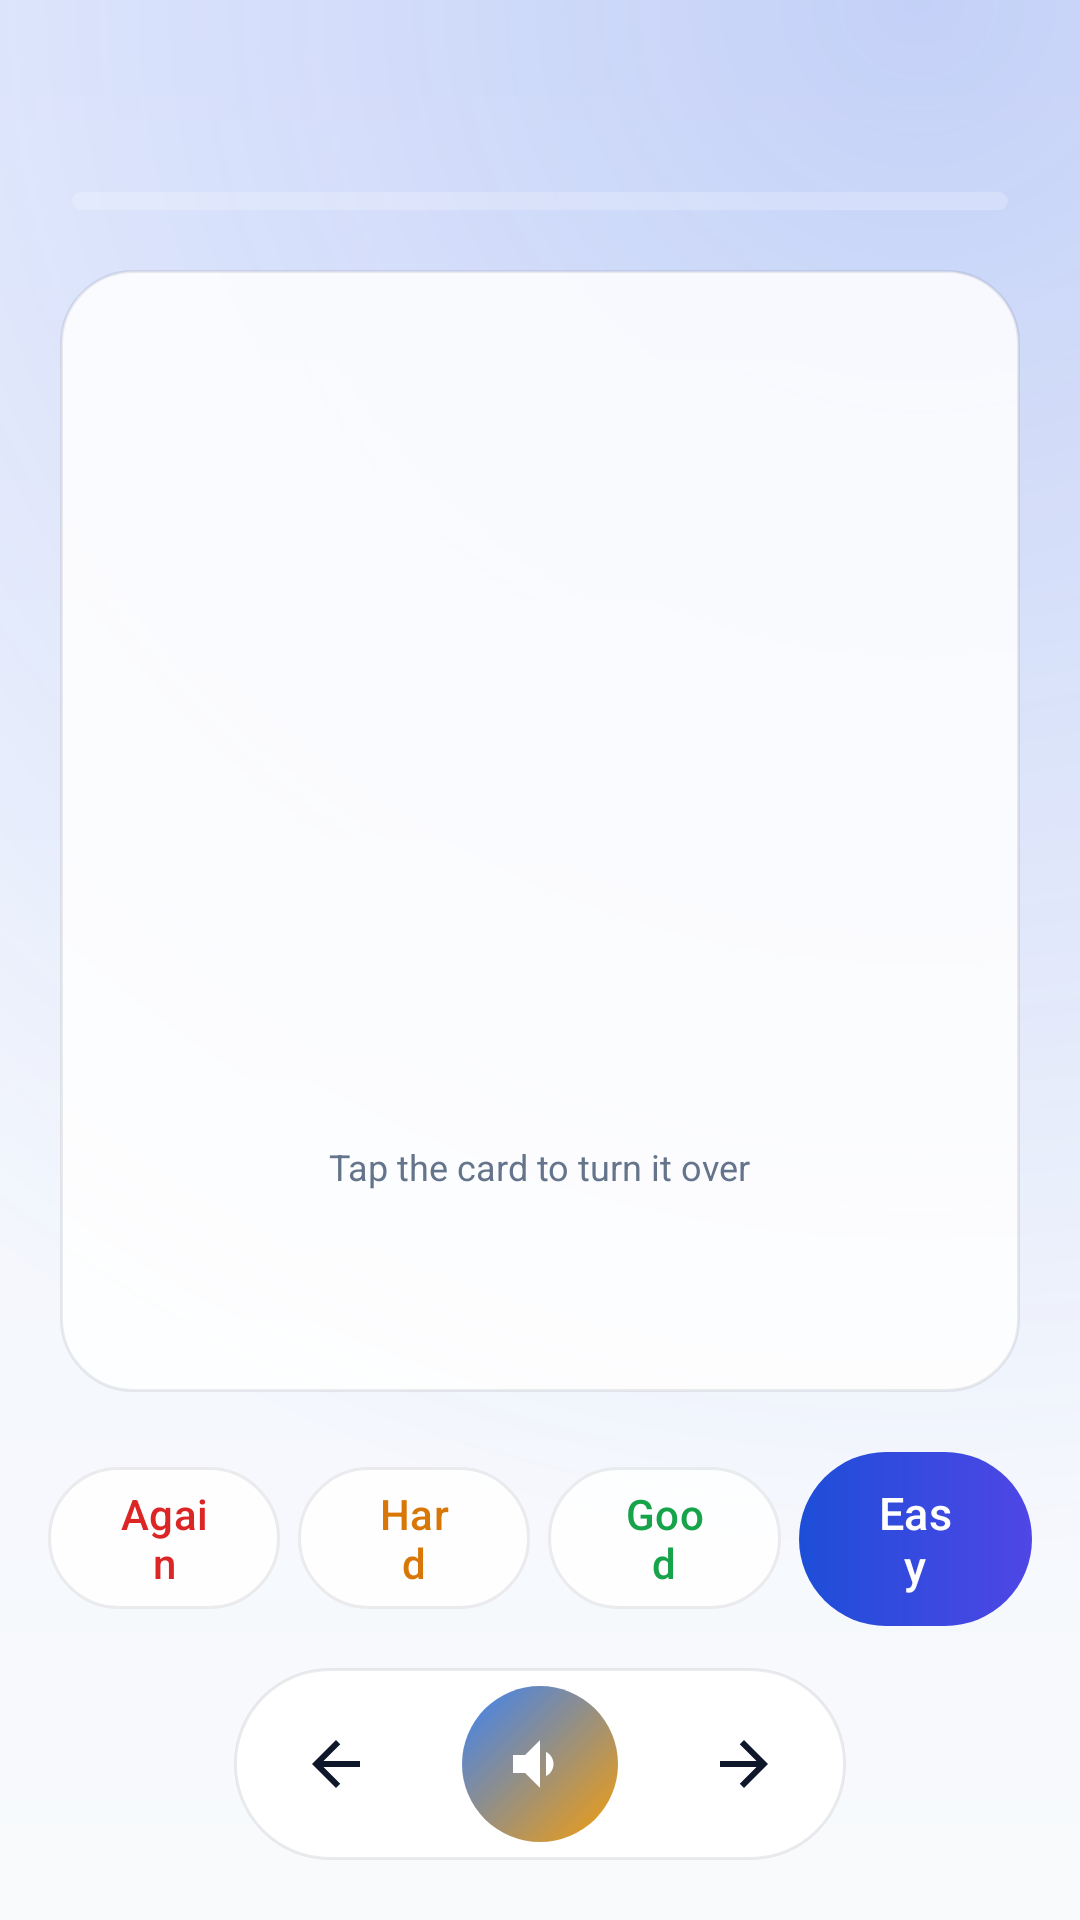

Named icons in this screenshot (1080px x 1920px) and their centers, [x,y]:
Previous sentence: [336,1764]
volume: [540,1764]
